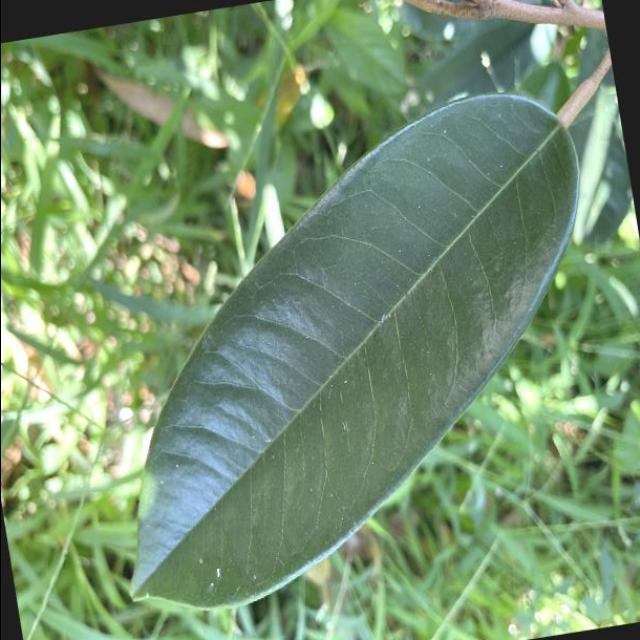No Disease: (52, 74, 640, 632)
